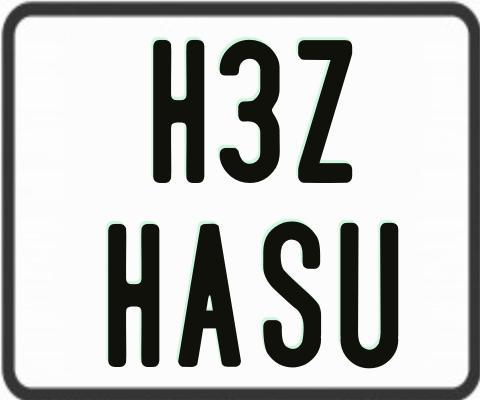3: (220, 37, 282, 183)
A: (178, 223, 246, 366)
H: (107, 224, 162, 370), (152, 38, 206, 185)
S: (260, 218, 320, 369)
U: (338, 221, 401, 368)
Z: (297, 37, 357, 183)
